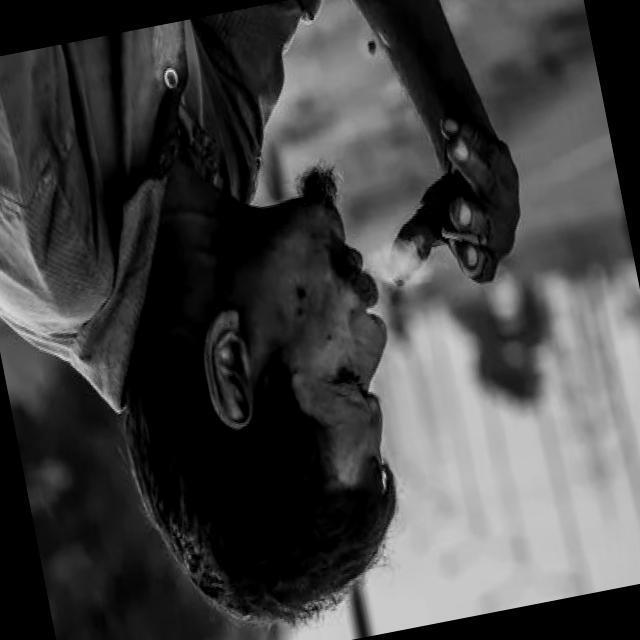cigarette: (434, 216, 492, 262)
